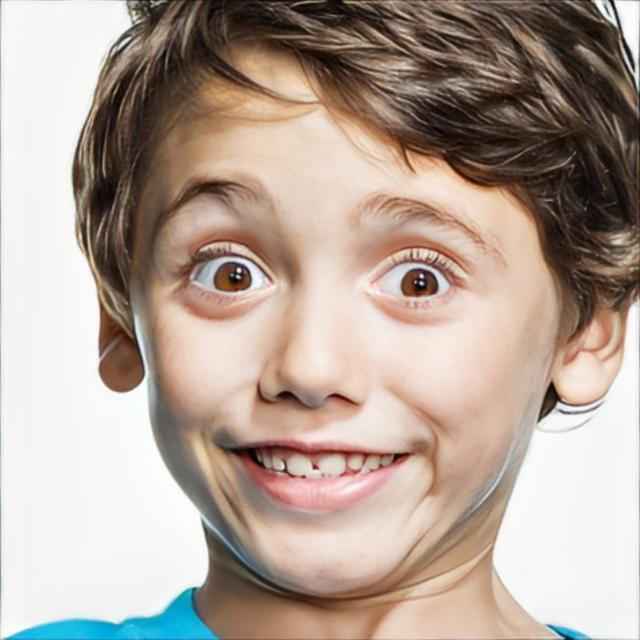surprise: (133, 41, 561, 602)
